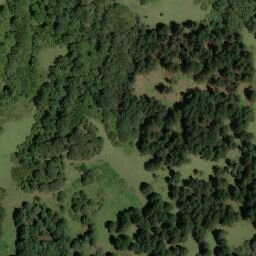forest: (67, 27, 251, 67), (33, 81, 103, 161), (9, 1, 115, 48), (49, 56, 133, 113), (180, 88, 226, 160), (181, 179, 238, 225), (109, 95, 153, 147), (17, 143, 65, 190), (149, 107, 187, 162), (142, 206, 168, 256), (5, 52, 36, 92), (138, 215, 185, 241), (211, 1, 256, 28), (195, 67, 256, 86), (227, 106, 255, 137)
